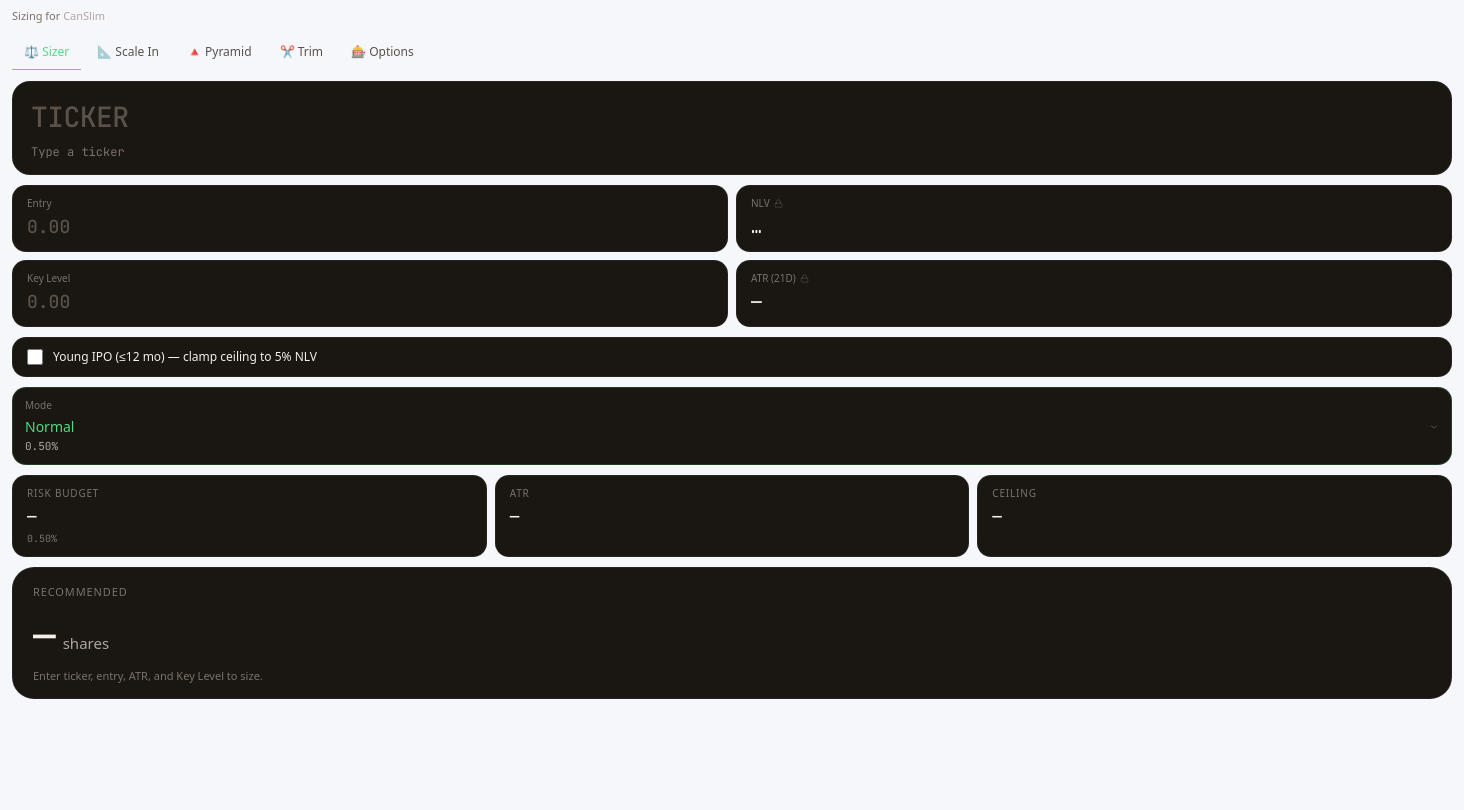
Test: MobilePositionSizer — debounced priceLookup › on priceLookup error, surfaces 'Couldn\'t fetch price' and keeps inputs editable
Type "ZZZZ" into the field named "Ticker symbol" at (732, 116), box x1=31 y1=96 x2=1433 y2=138
Wait 700 ms
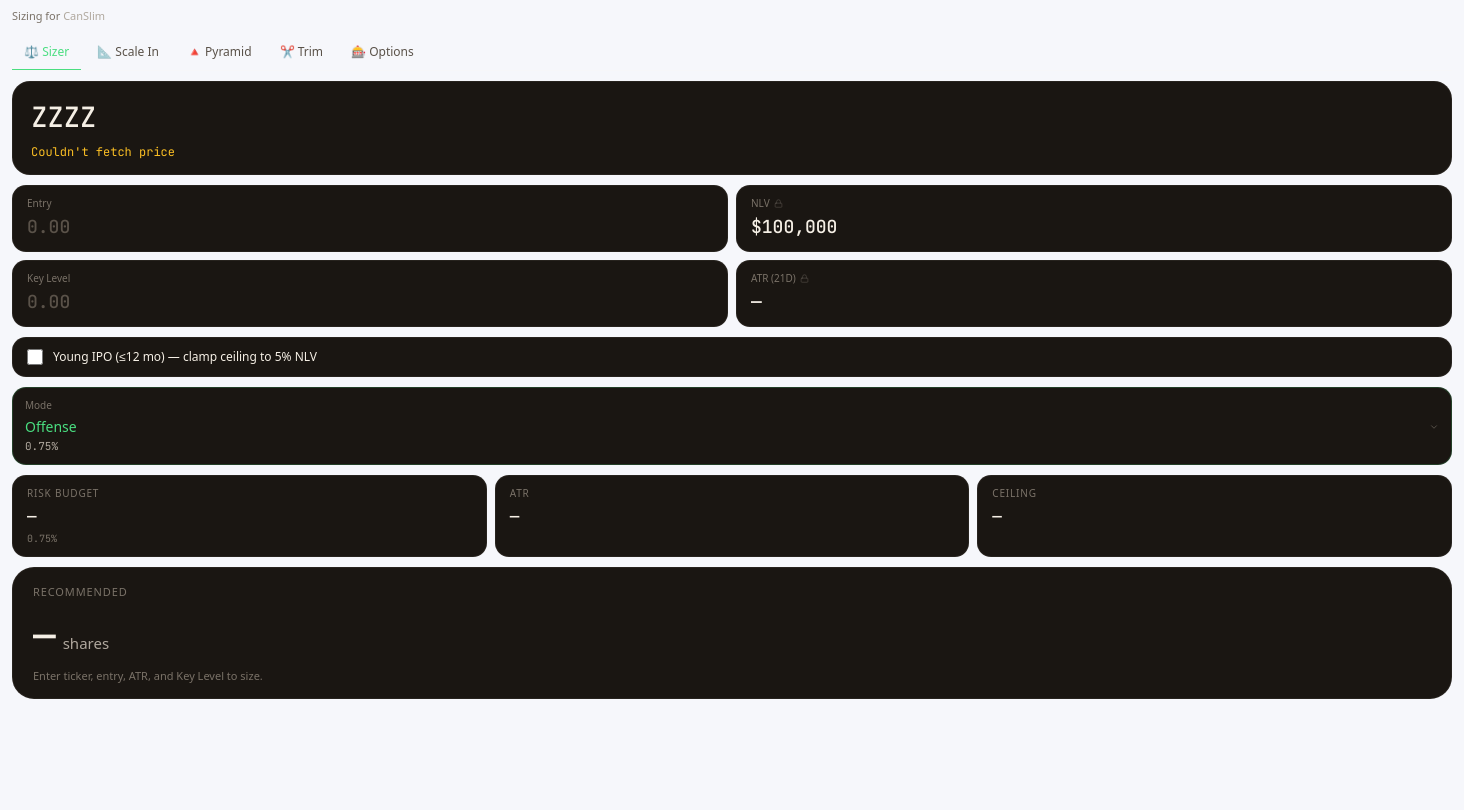
Expected: the field named "Entry price" is empty, x1=27 y1=212 x2=713 y2=240
Expected: the text "Couldn't fetch price" is shown, x1=31 y1=144 x2=175 y2=160
